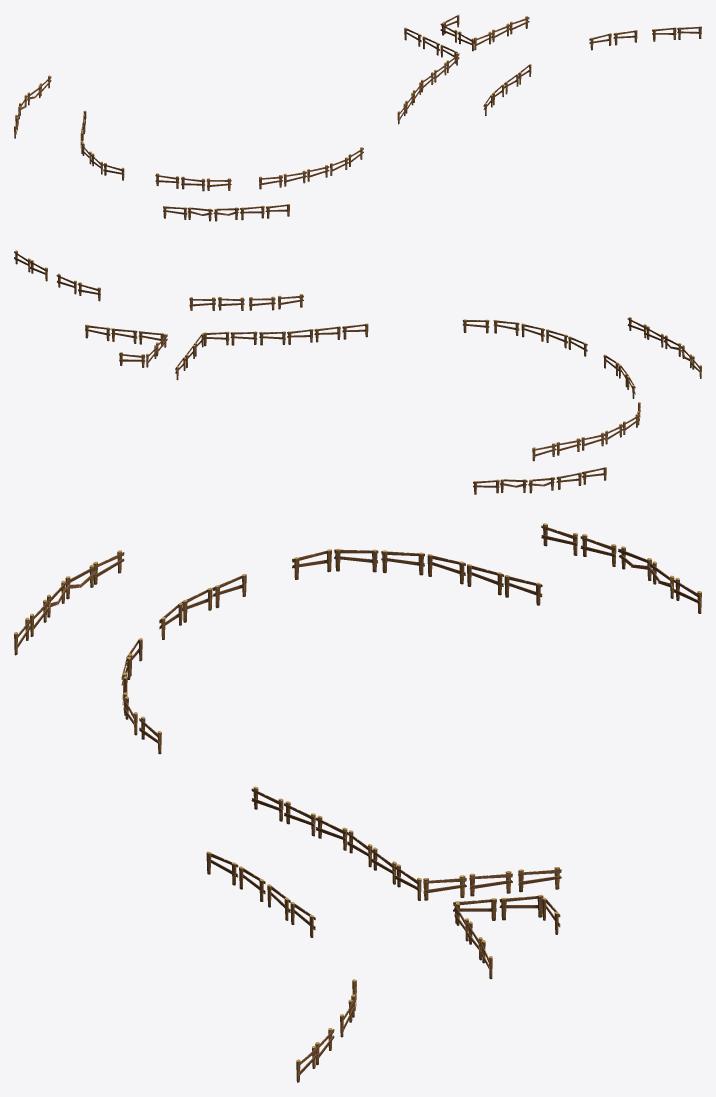
File: Area_11_4.fbx
The picture shows the model from 3 angles, top to bottom: view 1: azimuth 30°, elevation 25°; view 2: azimuth 150°, elevation 25°; view 3: azimuth 270°, elevation 25°; orthographic projection. The views are drawn at different scales.
Parts seen in each view (by area): view 1: Area_11_4; view 2: Area_11_4; view 3: Area_11_4.
Part boxes in pixels (<box>): Area_11_4: <box>14,14,701,221</box>; Area_11_4: <box>14,250,701,494</box>; Area_11_4: <box>14,523,701,1082</box>.
Bounding box in the file's own units: 7509 × 144 × 4051.
